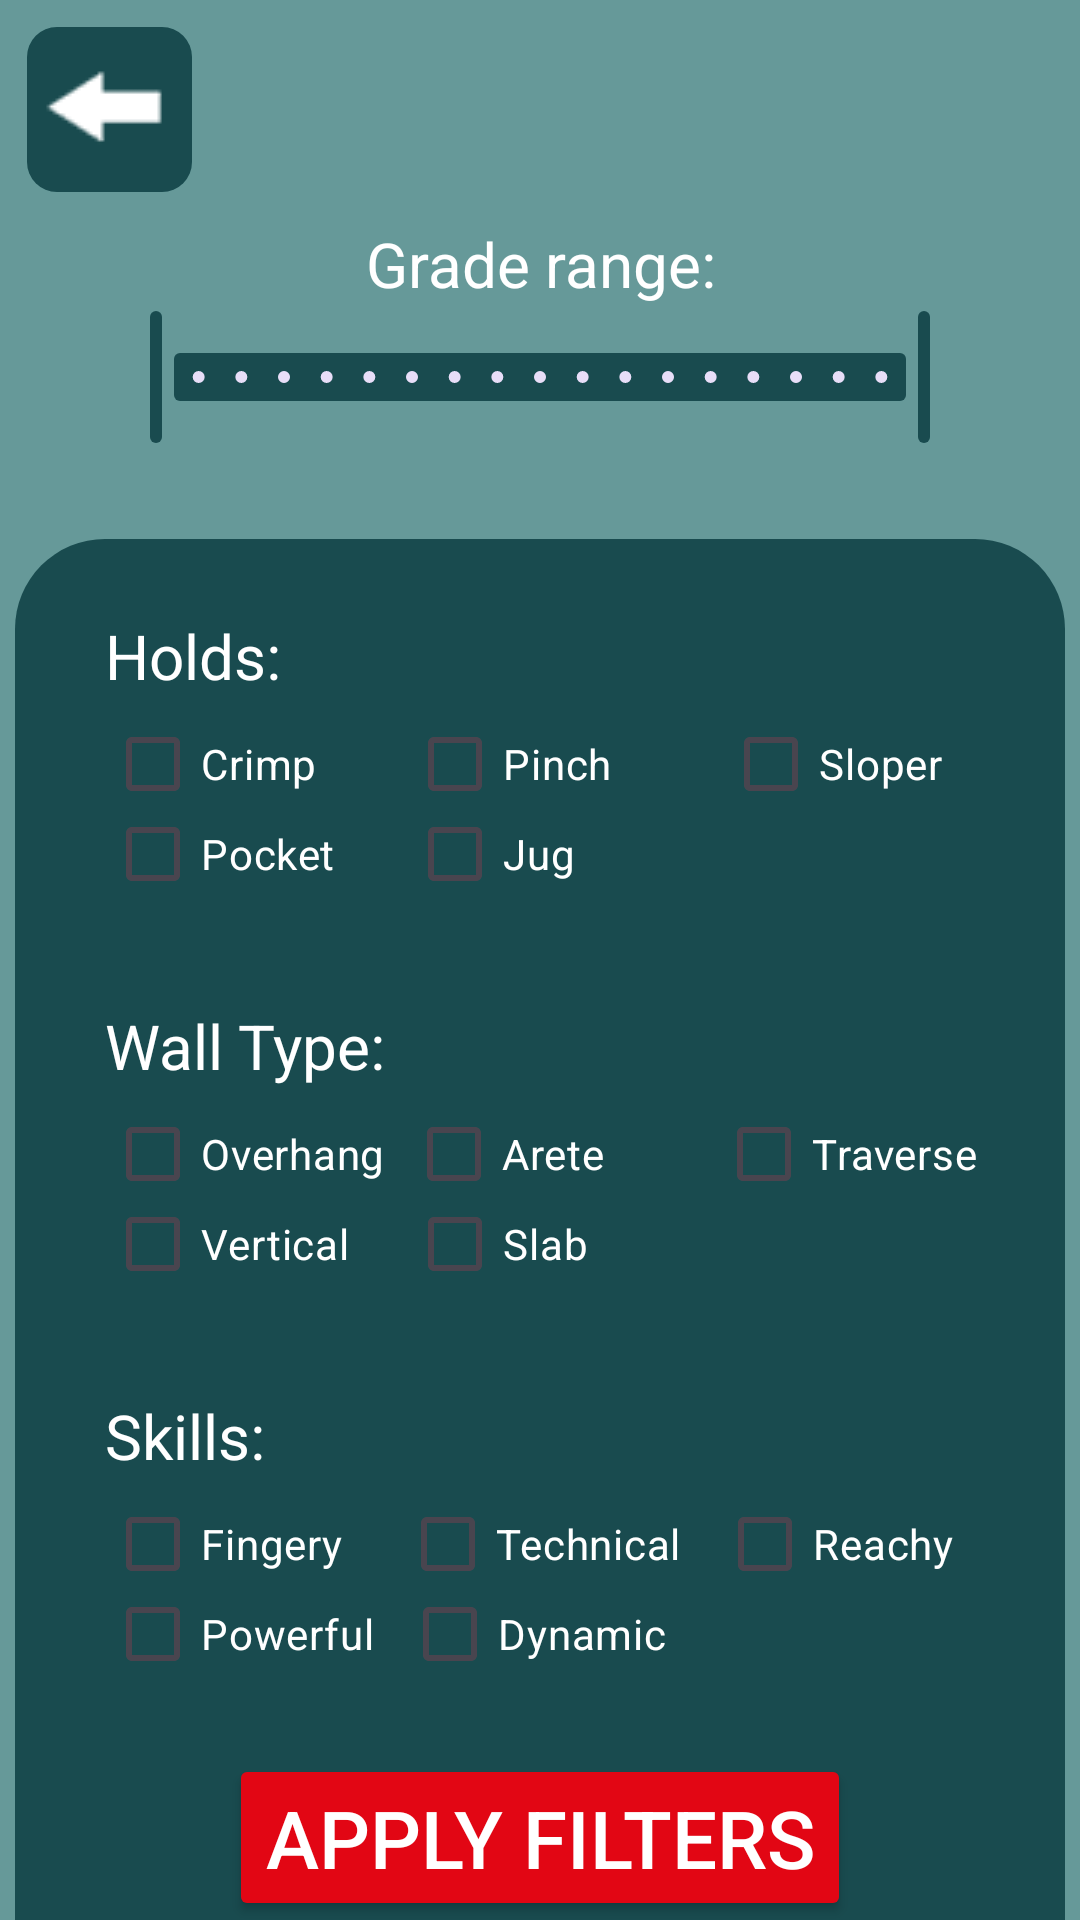

Locate icon controls on the screen. Image size 1080 x 1920, boxes as (x1, y1, x2, y2).
go back: (27, 27, 192, 192)
